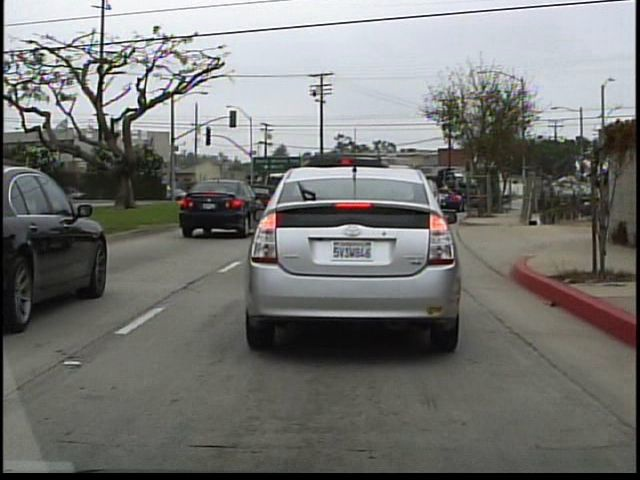person: (588, 160, 616, 248)
